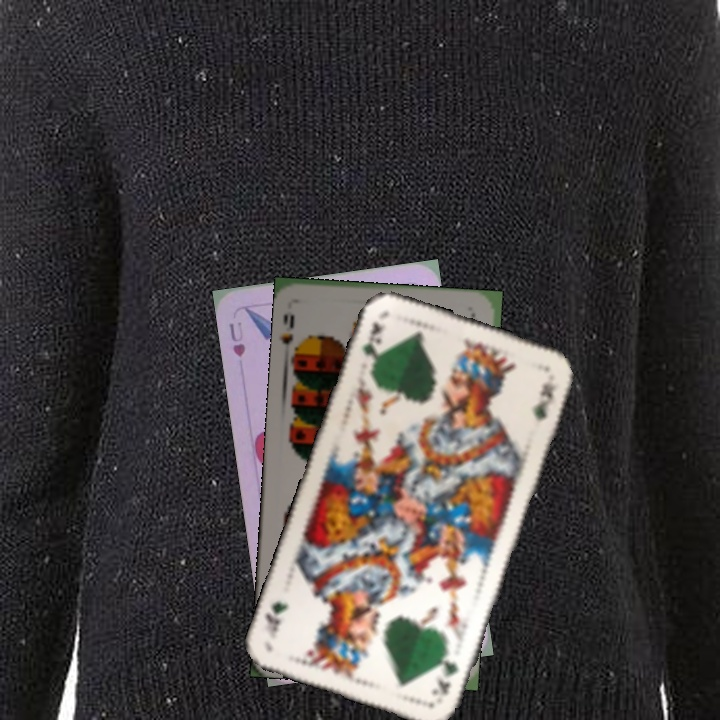GK: (358, 318, 385, 372), (430, 656, 462, 698)
HU: (225, 318, 248, 359)
S9: (278, 309, 305, 362)
